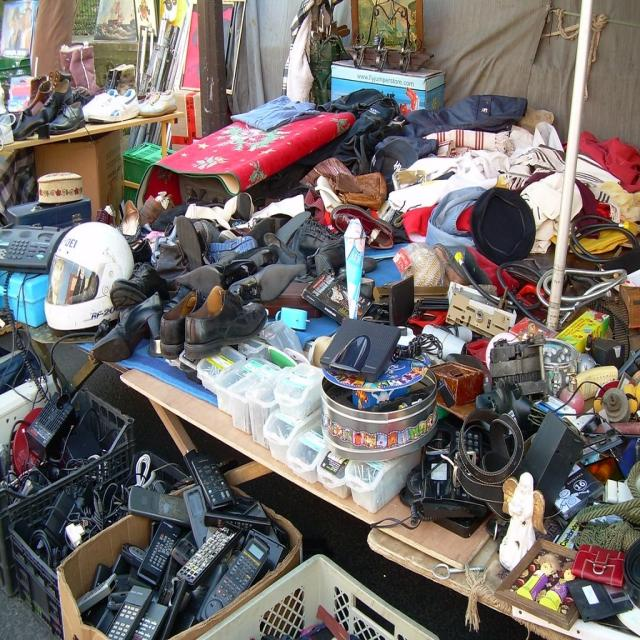E-waste: (1, 390, 269, 640), (438, 331, 614, 591)
Metal: (49, 217, 134, 332)
Plastics: (215, 352, 326, 472)
